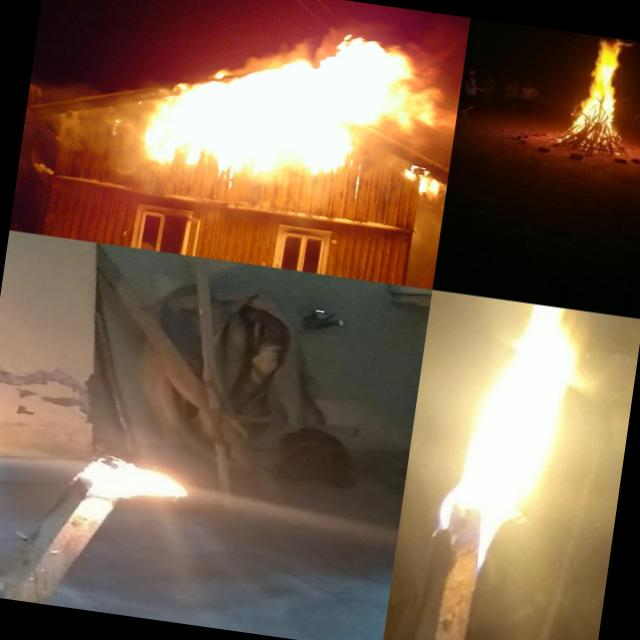fire: (124, 0, 467, 209), (419, 294, 612, 591), (64, 432, 202, 532), (566, 34, 638, 140)
